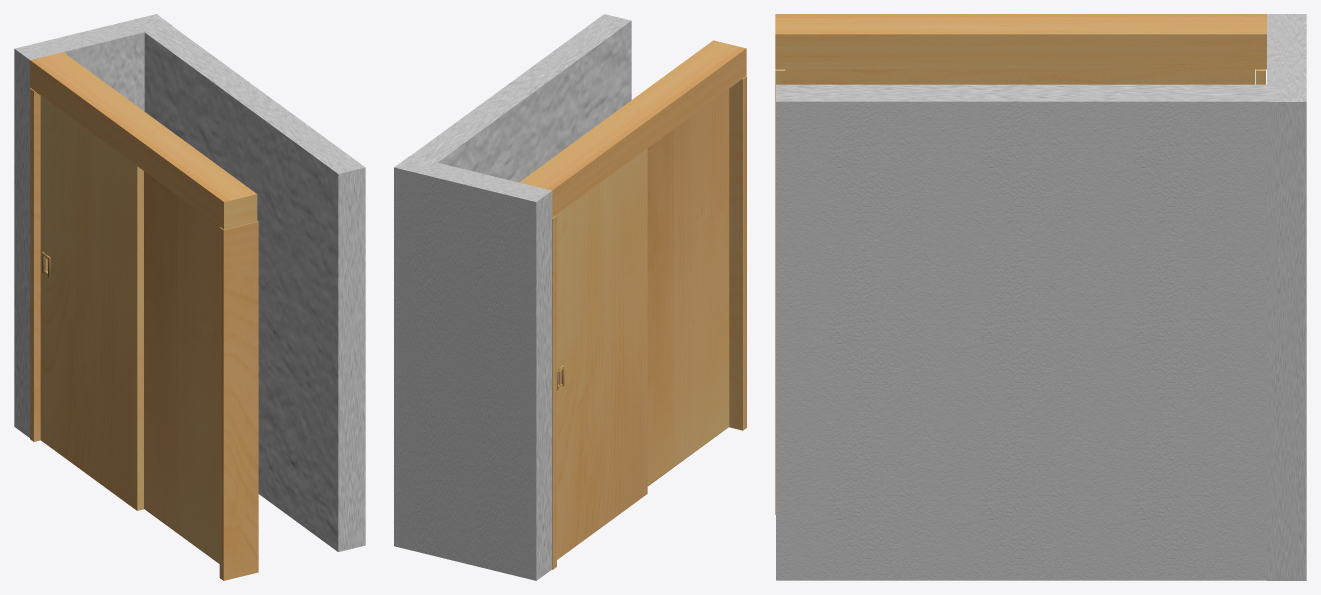
File: armario.obj
3 views of the same model, side by side, from view 1: azimuth 30°, elevation 25°; view 2: azimuth 150°, elevation 25°; view 3: azimuth 270°, elevation 25° (orthographic). The views are drawn at different scales.
Parts seen in each view (by area): view 1: Cube.006_Cube.012, Cube.003_Cube.004, Cube.002_Cube.003, Cube_Cube.001, Cube.001_Cube.002, Cube.008_Cube.013, Cube.004_Cube.005; view 2: Cube.008_Cube.013, Cube.003_Cube.004, Cube.002_Cube.003, Cube.006_Cube.012, Cube.001_Cube.002, Cube_Cube.001, Cube.004_Cube.005; view 3: Cube.006_Cube.012, Cube.001_Cube.002, Cube.008_Cube.013, Cube.002_Cube.003, Cube.003_Cube.004.
Part boxes in pixels (x1,y1,x2,y2): Cube.006_Cube.012: [140, 21, 365, 551]; Cube.003_Cube.004: [40, 96, 143, 510]; Cube.002_Cube.003: [144, 171, 220, 563]; Cube_Cube.001: [219, 221, 258, 580]; Cube.001_Cube.002: [30, 52, 257, 229]; Cube.008_Cube.013: [14, 14, 172, 437]; Cube.004_Cube.005: [30, 88, 40, 441]; Cube.008_Cube.013: [394, 156, 552, 580]; Cube.003_Cube.004: [556, 148, 647, 559]; Cube.002_Cube.003: [647, 89, 729, 486]; Cube.006_Cube.012: [406, 14, 631, 182]; Cube.001_Cube.002: [519, 40, 746, 217]; Cube_Cube.001: [729, 76, 746, 430]; Cube.004_Cube.005: [552, 215, 556, 569]; Cube.006_Cube.012: [776, 84, 1280, 580]; Cube.001_Cube.002: [775, 14, 1266, 69]; Cube.008_Cube.013: [1267, 14, 1306, 580]; Cube.002_Cube.003: [785, 69, 1029, 84]; Cube.003_Cube.004: [1029, 69, 1255, 84].
Size of the model in its own units: 2.93 by 7.43 by 7.46.
